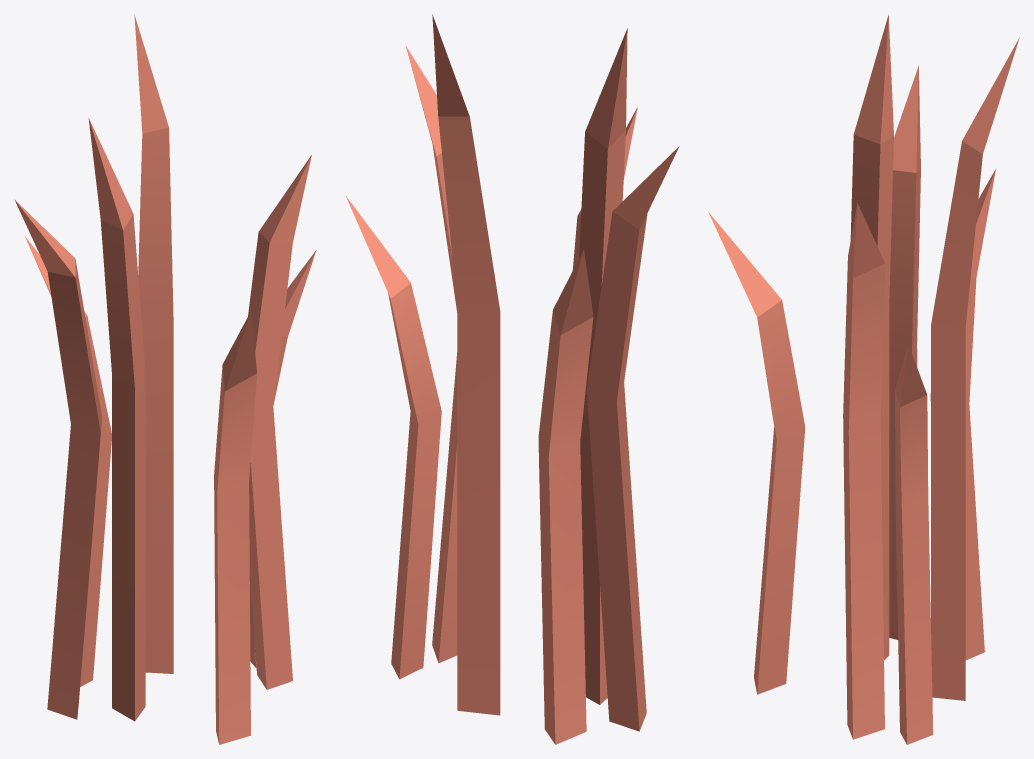
Rendered from SM_Prop_Plant_Wheat_Optimised_02.fbx.
The picture shows the model from 3 angles, left to right: view 1: azimuth 30°, elevation 25°; view 2: azimuth 150°, elevation 25°; view 3: azimuth 270°, elevation 25°; orthographic projection. The views are drawn at different scales.
Visible parts, largest first — view 1: SM_Prop_Plant_Wheat_Optimised_02; view 2: SM_Prop_Plant_Wheat_Optimised_02; view 3: SM_Prop_Plant_Wheat_Optimised_02.
Boxes of the visible parts, x1,y1,x2,y2 form: SM_Prop_Plant_Wheat_Optimised_02: [14, 14, 316, 744]; SM_Prop_Plant_Wheat_Optimised_02: [345, 14, 679, 744]; SM_Prop_Plant_Wheat_Optimised_02: [708, 15, 1019, 744].
Bounding box in the file's own units: 0.4679 × 0.9449 × 0.4035.
Materials: 1 (1 with a texture image).
